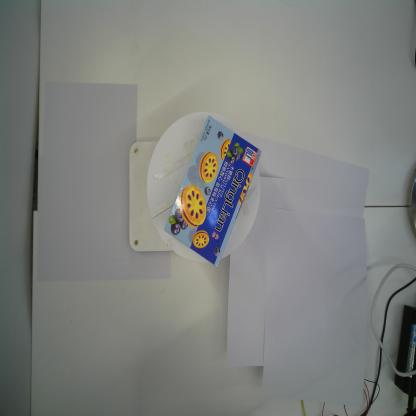Dessert: (163, 114, 263, 269)
